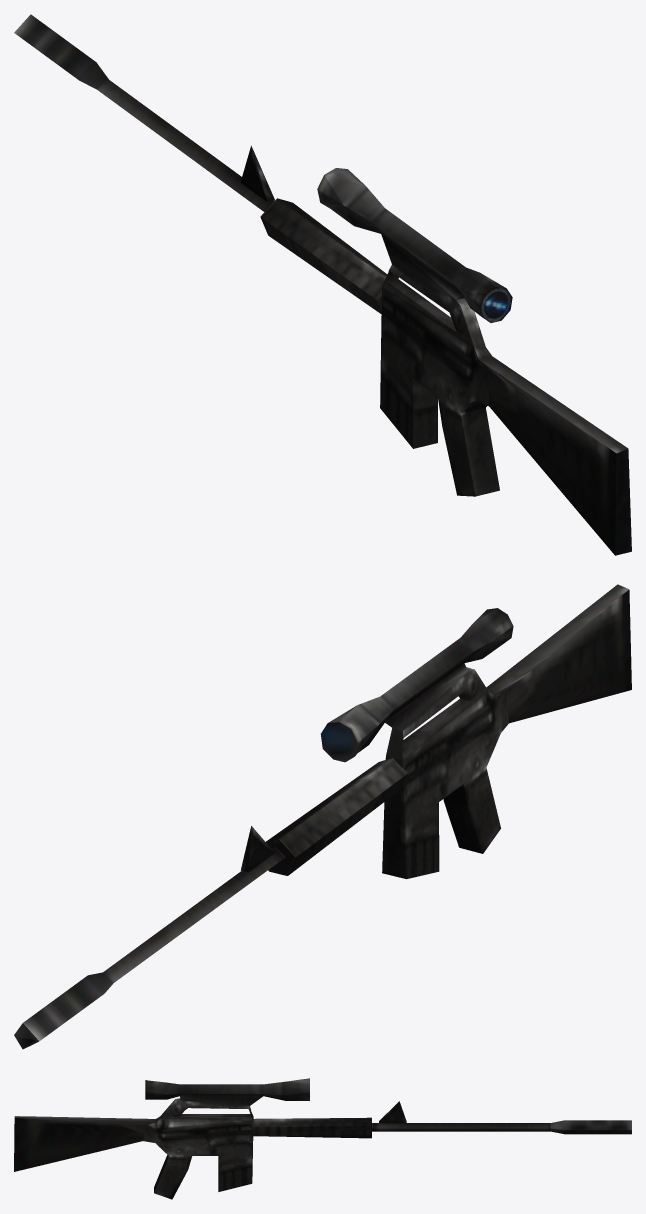
File: sniper.gltf
The picture shows the model from 3 angles, top to bottom: view 1: azimuth 30°, elevation 25°; view 2: azimuth 150°, elevation 25°; view 3: azimuth 270°, elevation 25°; orthographic projection. The views are drawn at different scales.
Parts seen in each view (by area): view 1: sniper; view 2: sniper; view 3: sniper.
Boxes of the visible parts, left/top/right/bottom form: sniper: left=14, top=14, right=631, bottom=555; sniper: left=14, top=584, right=631, bottom=1049; sniper: left=14, top=1078, right=631, bottom=1199.
Bounding box in the file's own units: 0.0642 × 0.3619 × 1.73.
1 material, 1 textured.
